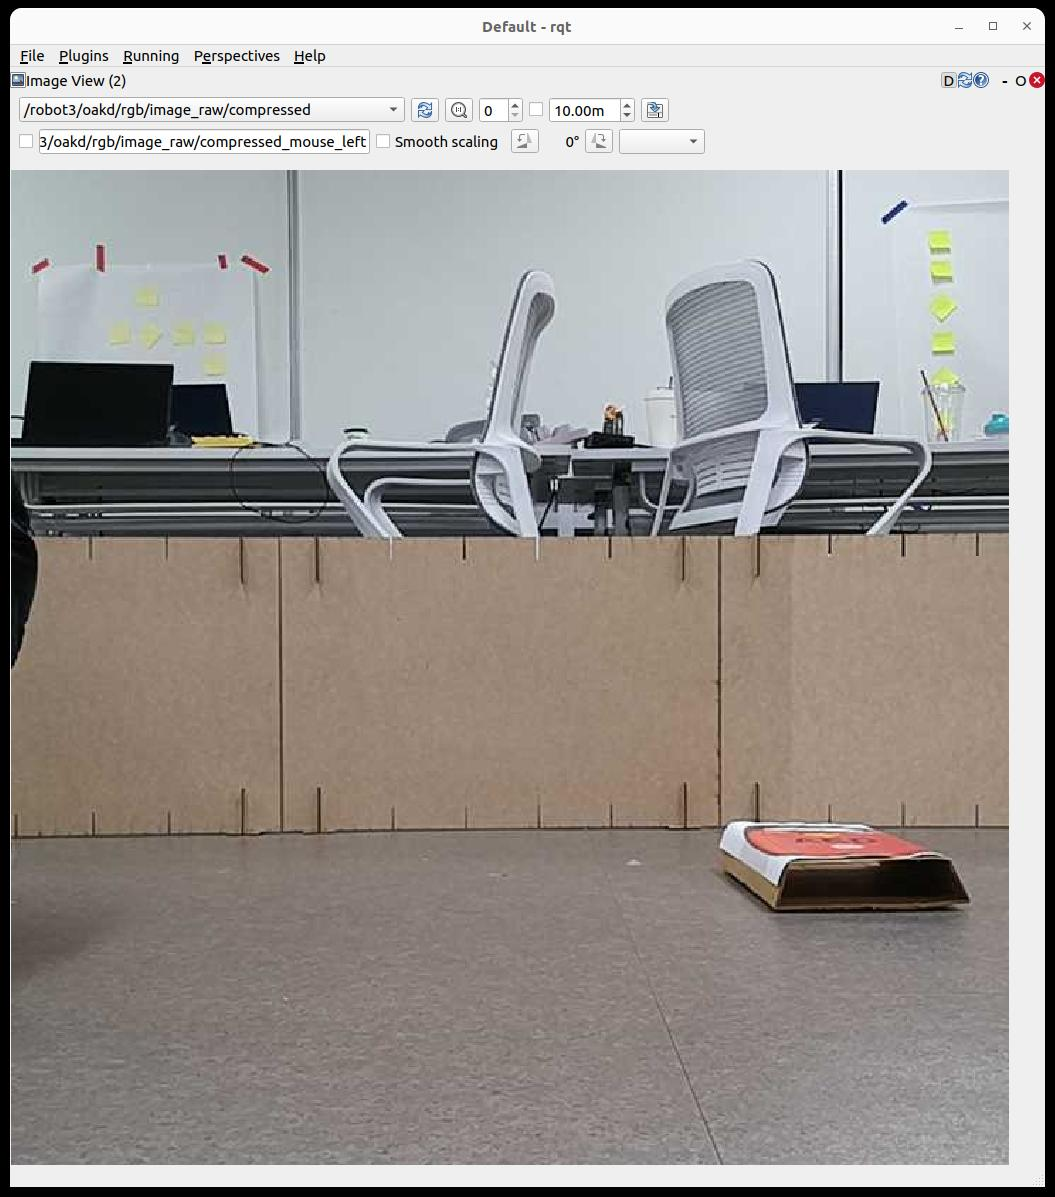AED: (719, 820, 968, 910)
